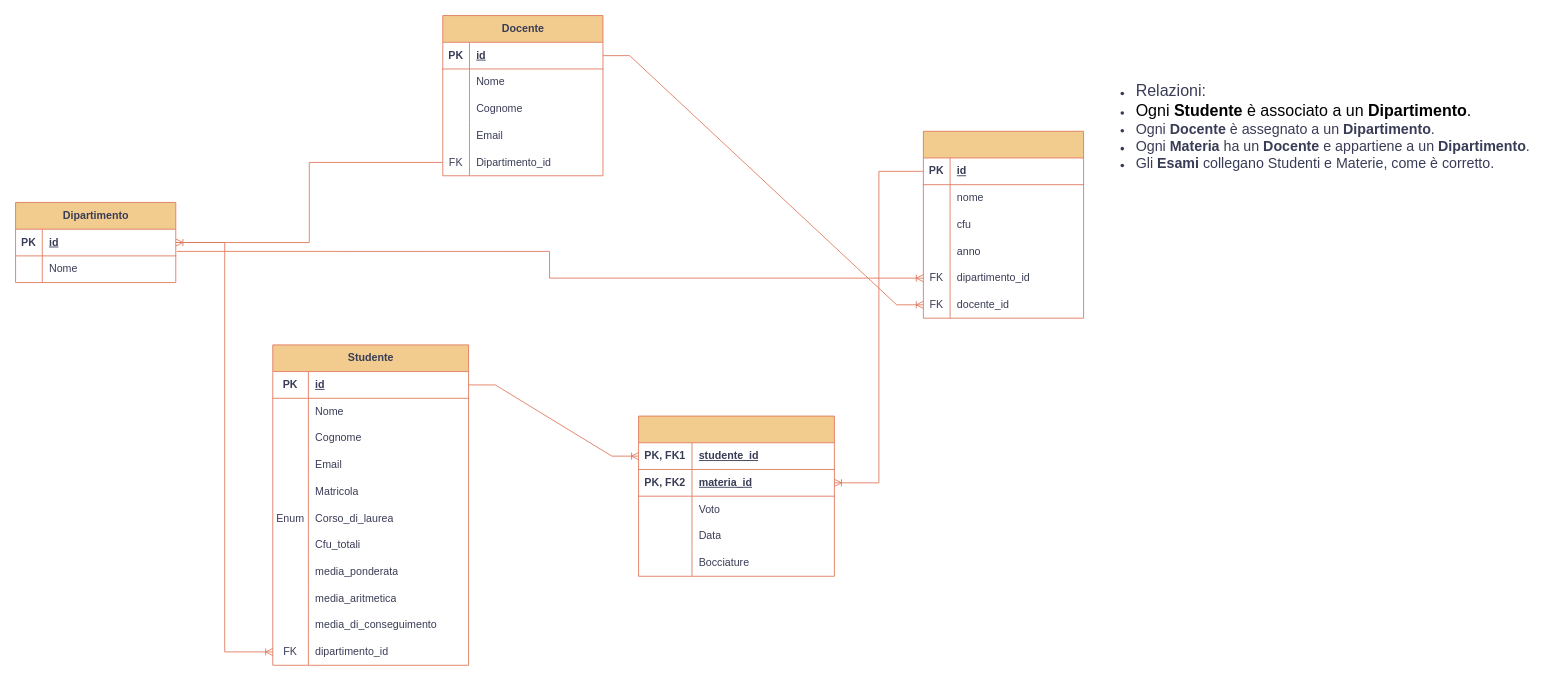
Some shapes in this 1562 by 681 pixel diagram are drawn without their labels. Here are the shapes that lost their labels. From the top down, the box of each, then its label:
(922, 130, 1084, 318): Materia
(638, 415, 834, 576): Esame
